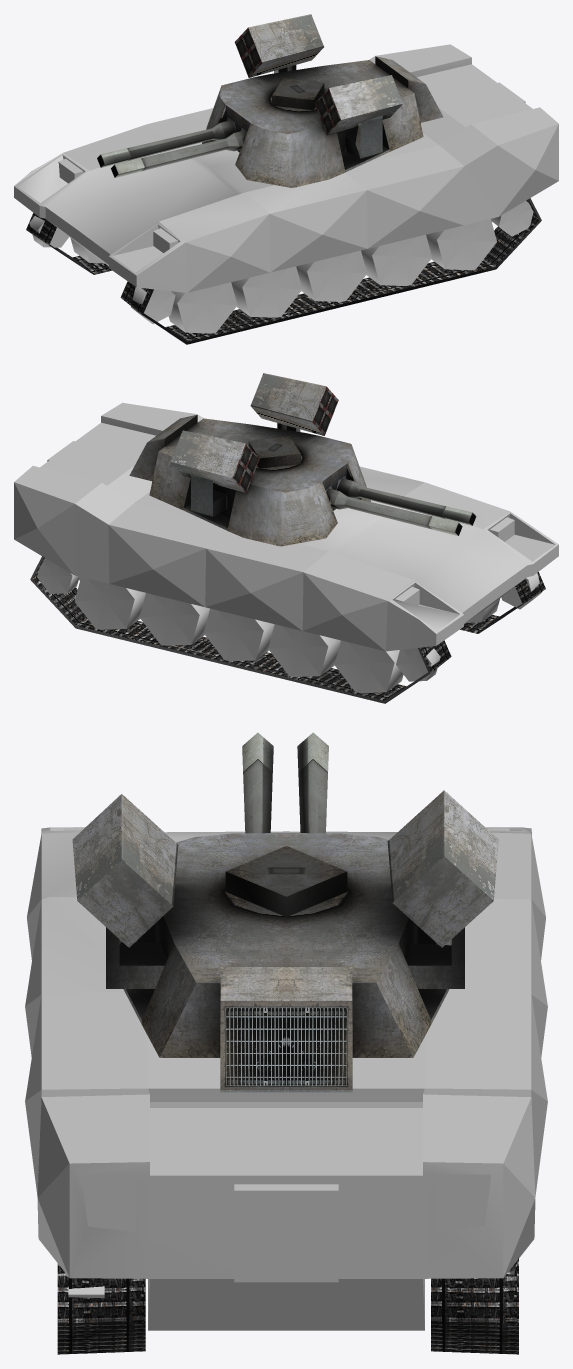
File: Tank4_lod2.FBX
3 renders of one model, top to bottom at view 1: azimuth 30°, elevation 25°; view 2: azimuth 150°, elevation 25°; view 3: azimuth 270°, elevation 25°, orthographic. The views are drawn at different scales.
Parts seen in each view (by area): view 1: tank14, tank4_gun05, Object40, tank4_gun04, wheel213, wheel214, wheel201, wheel208, wheel207, wheel206, wheel203, wheel202; view 2: tank14, tank4_gun05, Object40, tank4_gun04, wheel211, wheel204, wheel210, wheel209, wheel212, wheel202, wheel205, wheel206; view 3: tank14, tank4_gun05, Object40, tank4_gun04.
Part boxes in pixels (box(x1,y1,x2,y2)): tank14: box(14, 44, 558, 292); tank4_gun05: box(202, 14, 443, 188); Object40: box(26, 198, 541, 344); tank4_gun04: box(97, 120, 246, 177); wheel213: box(231, 266, 302, 317); wheel214: box(361, 234, 432, 285); wheel201: box(426, 219, 496, 270); wheel208: box(296, 250, 367, 301); wheel207: box(168, 282, 237, 333); wheel206: box(131, 287, 175, 323); wheel203: box(491, 201, 533, 236); wheel202: box(29, 216, 68, 247); tank14: box(14, 402, 558, 651); tank4_gun05: box(129, 373, 370, 546); Object40: box(30, 555, 545, 703); tank4_gun04: box(326, 478, 476, 535); wheel211: box(268, 624, 340, 676); wheel204: box(74, 577, 145, 629); wheel210: box(203, 608, 274, 661); wheel209: box(139, 593, 209, 645); wheel212: box(334, 640, 403, 693); wheel202: box(396, 648, 440, 681); wheel205: box(37, 558, 79, 593); wheel206: box(501, 573, 541, 609); tank14: box(25, 827, 547, 1330); tank4_gun05: box(72, 790, 498, 1092); Object40: box(57, 1257, 518, 1354); tank4_gun04: box(242, 732, 328, 833).
Bounding box in the file's own units: 7.05 × 3.2 × 3.65.
